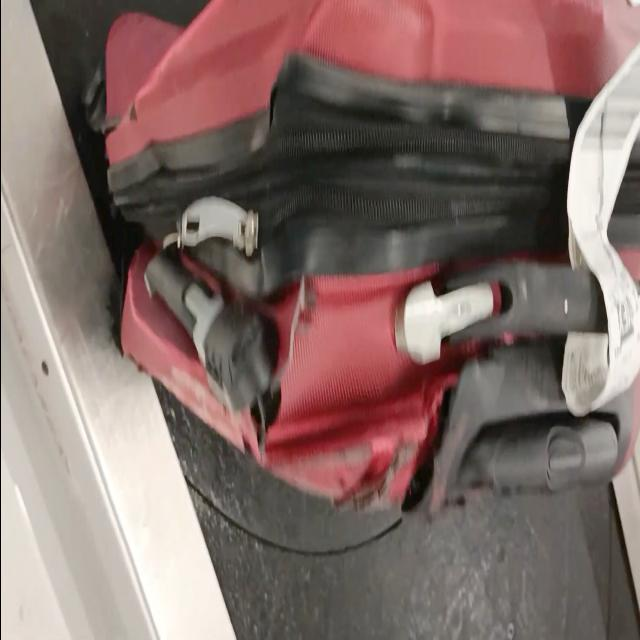Damage-bag: (120, 244, 478, 507), (106, 2, 309, 162)
